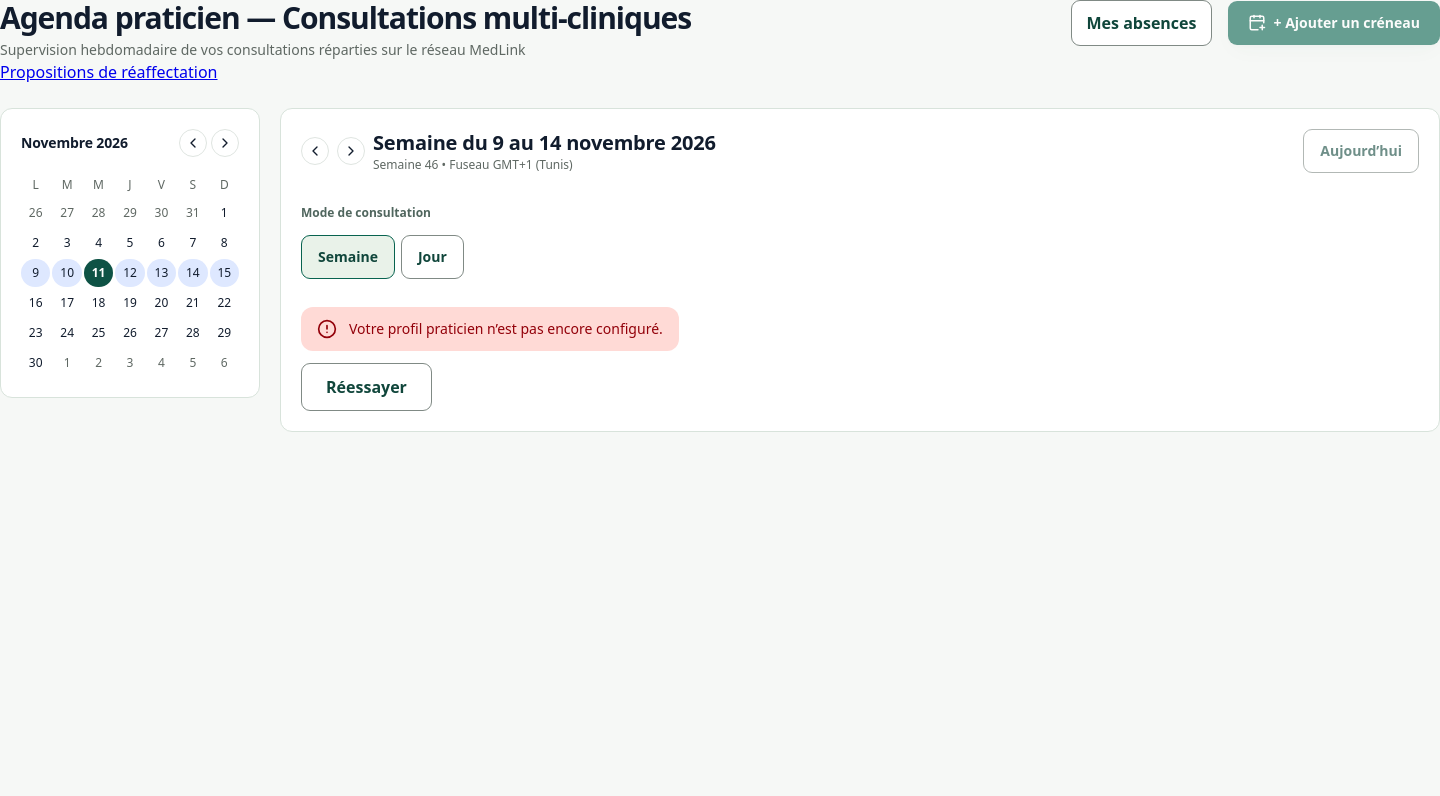
an error shows the API message and a way to try again
Expected: the message reads "Votre profil praticien n’est pas encore configuré.", [349,319,663,338]
Click the button "Réessayer": point(366, 387) [301,363,432,411]
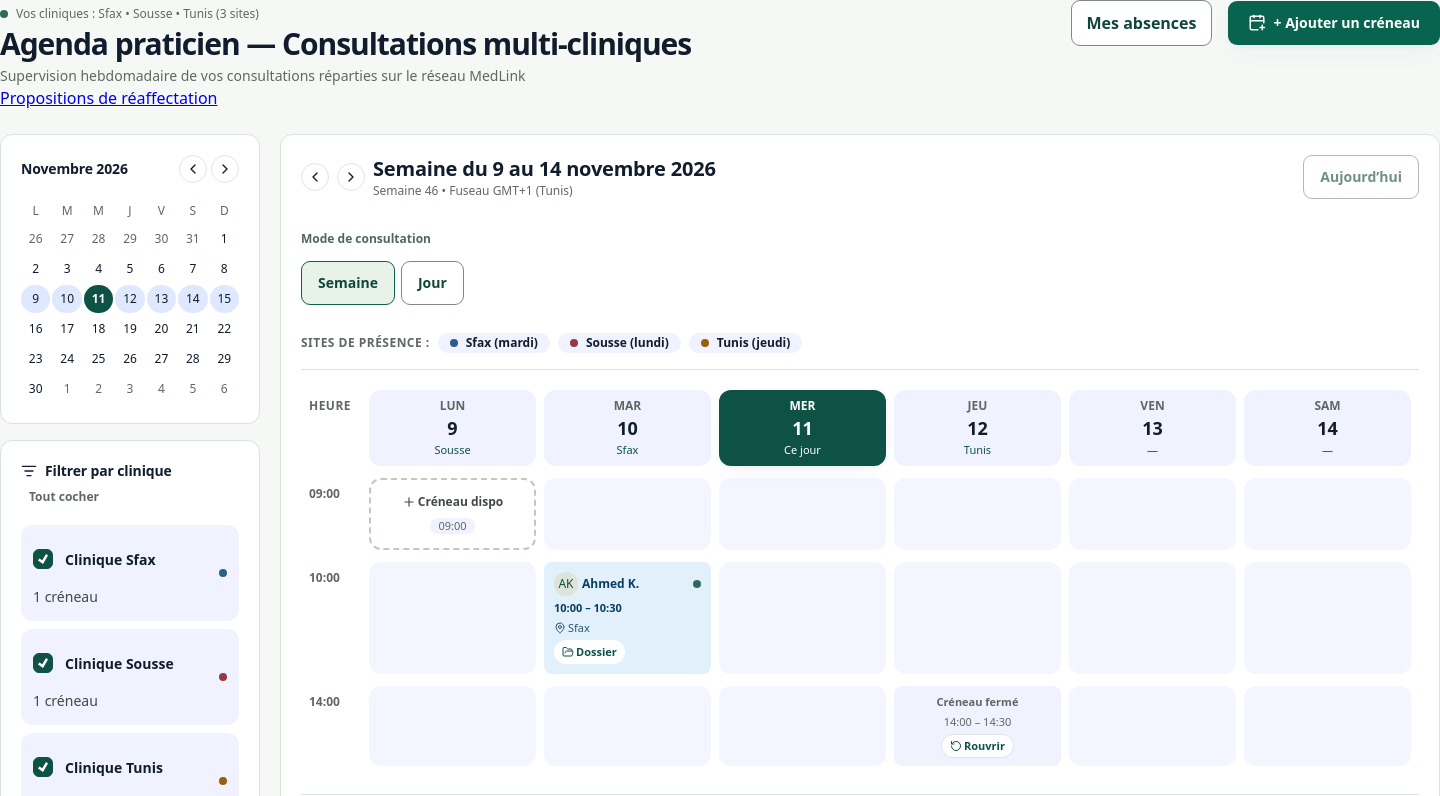
Result: the table named "Semaine du 9 au 14 novembre 2026" is shown at [301,378,1419,778]
